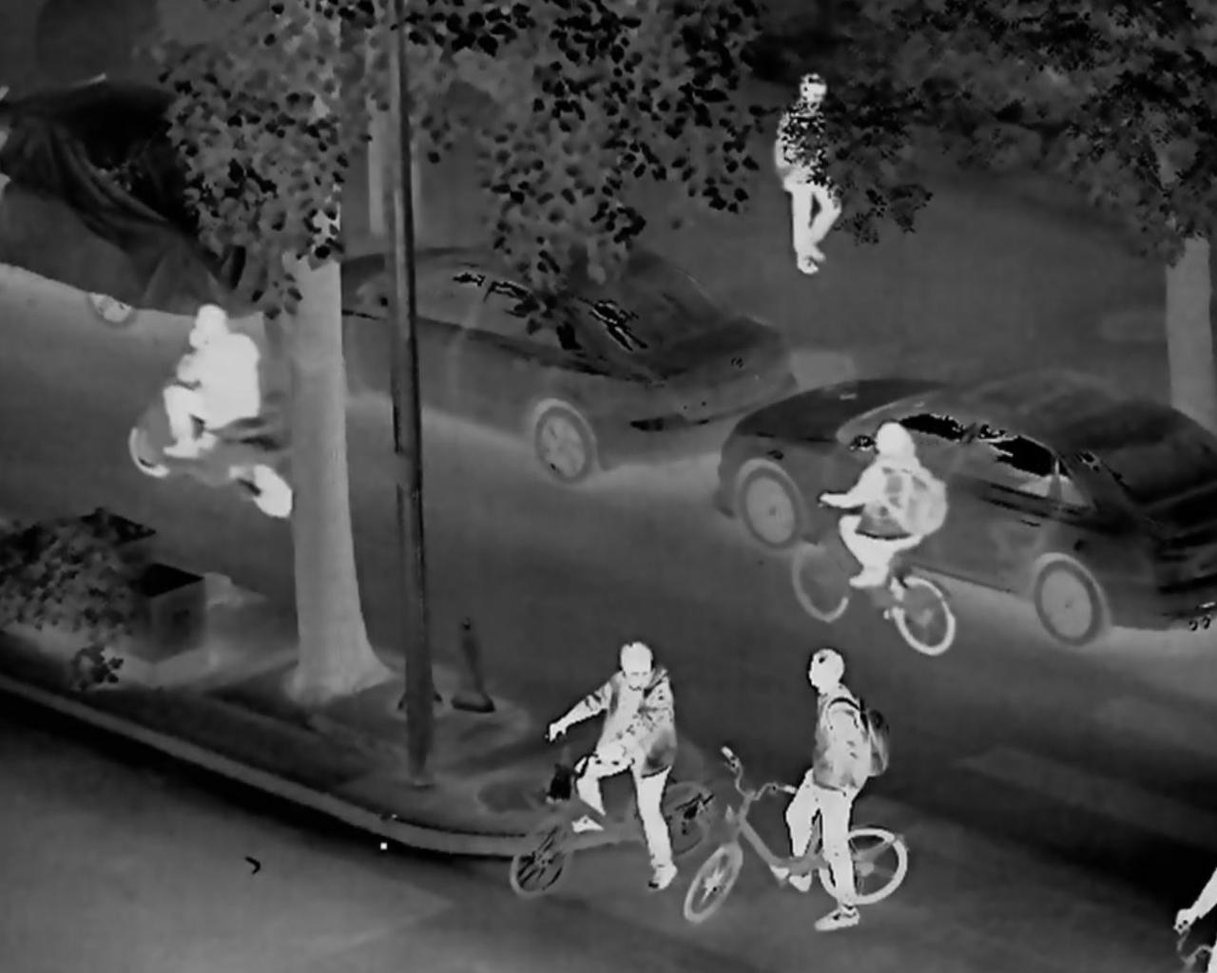person: (783, 639, 904, 931), (553, 639, 694, 887), (823, 423, 948, 646), (153, 292, 283, 467), (760, 53, 858, 285)
